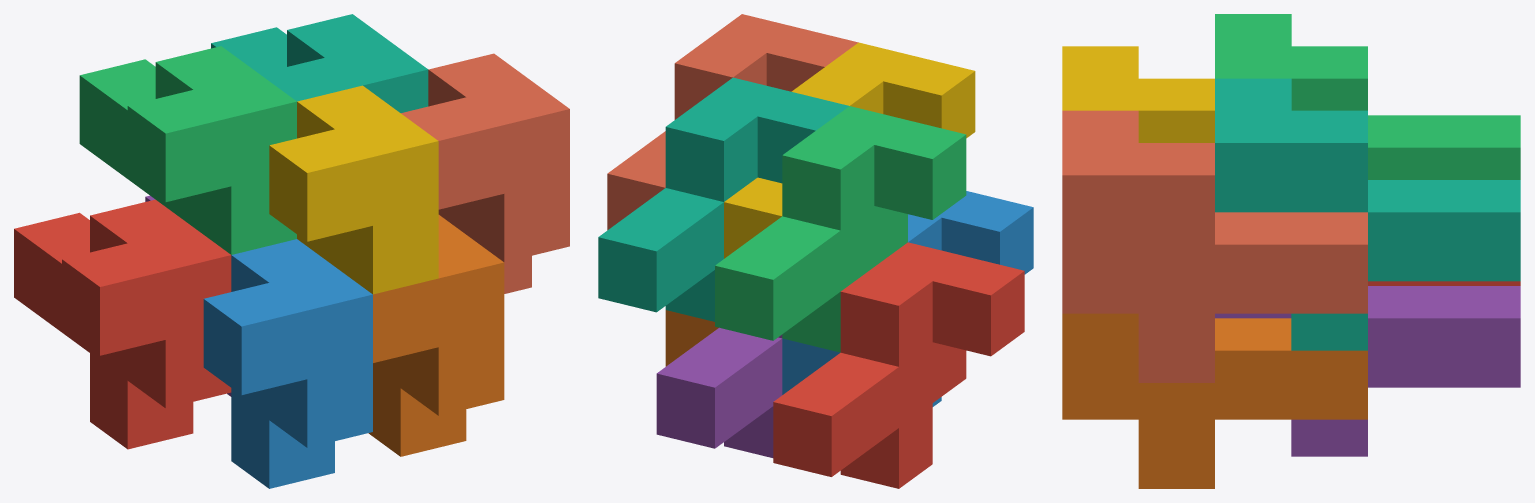
The model's file is tiling.obj.
3 renders of one model, left to right at view 1: azimuth 30°, elevation 25°; view 2: azimuth 150°, elevation 25°; view 3: azimuth 270°, elevation 25°, orthographic. The views are drawn at different scales.
Parts seen in each view (by area): view 1: copy_1_domain_1, copy_1_domain_2, copy_1_domain_3, copy_1_domain_4, copy_1_domain_8, copy_1_domain_6, copy_1_domain_7; view 2: copy_1_domain_1, copy_1_domain_3, copy_1_domain_7, copy_1_domain_4, copy_1_domain_8, copy_1_domain_5, copy_1_domain_2, copy_1_domain_6; view 3: copy_1_domain_8, copy_1_domain_7, copy_1_domain_6, copy_1_domain_3, copy_1_domain_5, copy_1_domain_4, copy_1_domain_1.
Boxes of the visible parts, <box> form: copy_1_domain_1: <box>14,199,231,449</box>; copy_1_domain_2: <box>203,239,372,488</box>; copy_1_domain_3: <box>79,46,296,254</box>; copy_1_domain_4: <box>269,85,438,294</box>; copy_1_domain_8: <box>401,53,569,293</box>; copy_1_domain_6: <box>368,215,504,456</box>; copy_1_domain_7: <box>211,14,428,112</box>; copy_1_domain_1: <box>773,242,1024,488</box>; copy_1_domain_3: <box>715,106,966,352</box>; copy_1_domain_7: <box>598,77,848,321</box>; copy_1_domain_4: <box>724,42,975,258</box>; copy_1_domain_8: <box>607,14,858,230</box>; copy_1_domain_5: <box>656,327,782,457</box>; copy_1_domain_2: <box>782,191,1033,406</box>; copy_1_domain_6: <box>665,310,718,366</box>; copy_1_domain_8: <box>1062,110,1367,382</box>; copy_1_domain_7: <box>1215,78,1520,350</box>; copy_1_domain_6: <box>1062,313,1367,488</box>; copy_1_domain_3: <box>1215,14,1520,179</box>; copy_1_domain_5: <box>1215,286,1520,456</box>; copy_1_domain_4: <box>1062,46,1214,142</box>; copy_1_domain_1: <box>1368,281,1520,285</box>.
Size of the model in its own units: 6 by 5 by 6.
